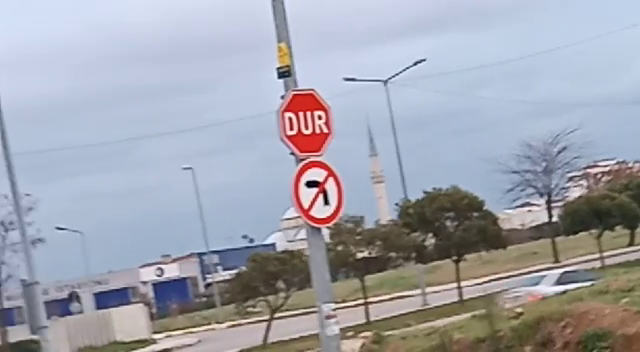no_left: (288, 158, 346, 231)
stop: (273, 86, 338, 158)
